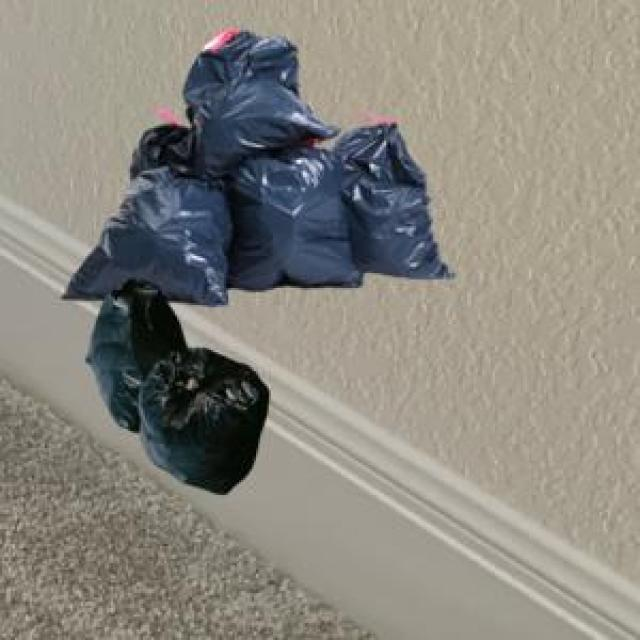Vinyl: (64, 30, 450, 493)
